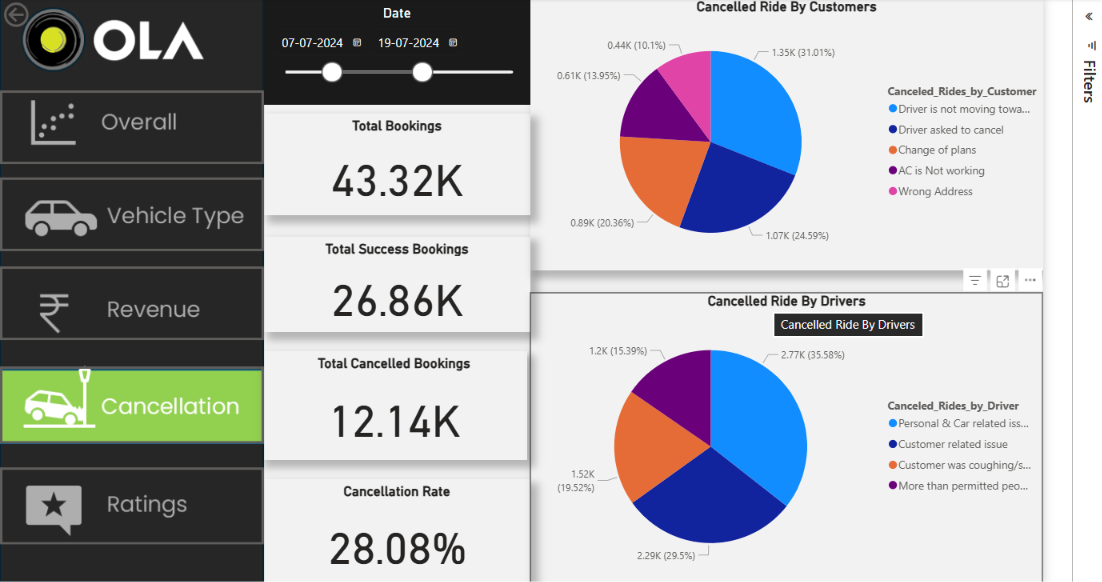

Layout of this report page (visuals, bound fields, positions):
{"tool":"powerbi","page":{"name":"Cancellation","canvas":[1280,720],"ordinal":3},"visuals":[{"type":"actionButton","box":[0,112.5,323.8,90.6],"z":0},{"type":"actionButton","box":[0,219.6,323.8,90.6],"z":1000},{"type":"actionButton","box":[0,329.3,323.8,90.6],"z":2000},{"type":"actionButton","box":[0,451.5,323.8,94.7],"z":3000},{"type":"actionButton","box":[0,575,323.8,94.7],"z":4000},{"type":"pieChart","title":"Cancelled Ride By Customers","fields":{"Category":["July.Canceled_Rides_by_Customer"],"Y":["CountNonNull(July.Canceled_Rides_by_Customer)"]},"box":[650.4,0,629.8,333.4],"z":5000},{"type":"pieChart","title":"Cancelled Ride By Drivers","fields":{"Category":["July.Canceled_Rides_by_Driver"],"Y":["CountNonNull(July.Canceled_Rides_by_Driver)"]},"box":[650.4,360.9,629.8,359.5],"z":6000},{"type":"slicer","title":"Date","fields":{"Values":["July.Date"]},"box":[323.8,0,326.6,130.4],"z":7000},{"type":"card","title":"Total Bookings","fields":{"Values":["Count(July.Booking_ID)"]},"box":[323.9,141.1,326.4,125.2],"z":8000},{"type":"card","title":"Total Success Bookings","fields":{"Values":["Count(July.Booking_ID)"]},"box":[323.9,292,326.4,117.8],"z":9000},{"type":"card","title":"Total Cancelled Bookings","fields":{"Values":["Count(July.Booking_ID)"]},"box":[320.2,433.1,326.4,132.5],"z":10000},{"type":"actionButton","box":[0,0,100,40],"z":11000},{"type":"card","title":"Cancellation Rate","fields":{"Values":["July.CancellationRate"]},"box":[323.9,590.2,326.4,130.1],"z":12000}]}

Visuals, with their boxes on the page's 1280x720 design canvas (x1, y1, x2, y2). These are canvas units, not pixel positions in the 1102x582 screenshot, which may show the page scaled, cropped or inside an application window:
actionButton: 0,112,324,203
actionButton: 0,220,324,310
actionButton: 0,329,324,420
actionButton: 0,452,324,546
actionButton: 0,575,324,670
"Cancelled Ride By Customers" pieChart: 650,0,1280,333
"Cancelled Ride By Drivers" pieChart: 650,361,1280,720
"Date" slicer: 324,0,650,130
"Total Bookings" card: 324,141,650,266
"Total Success Bookings" card: 324,292,650,410
"Total Cancelled Bookings" card: 320,433,647,566
actionButton: 0,0,100,40
"Cancellation Rate" card: 324,590,650,720
